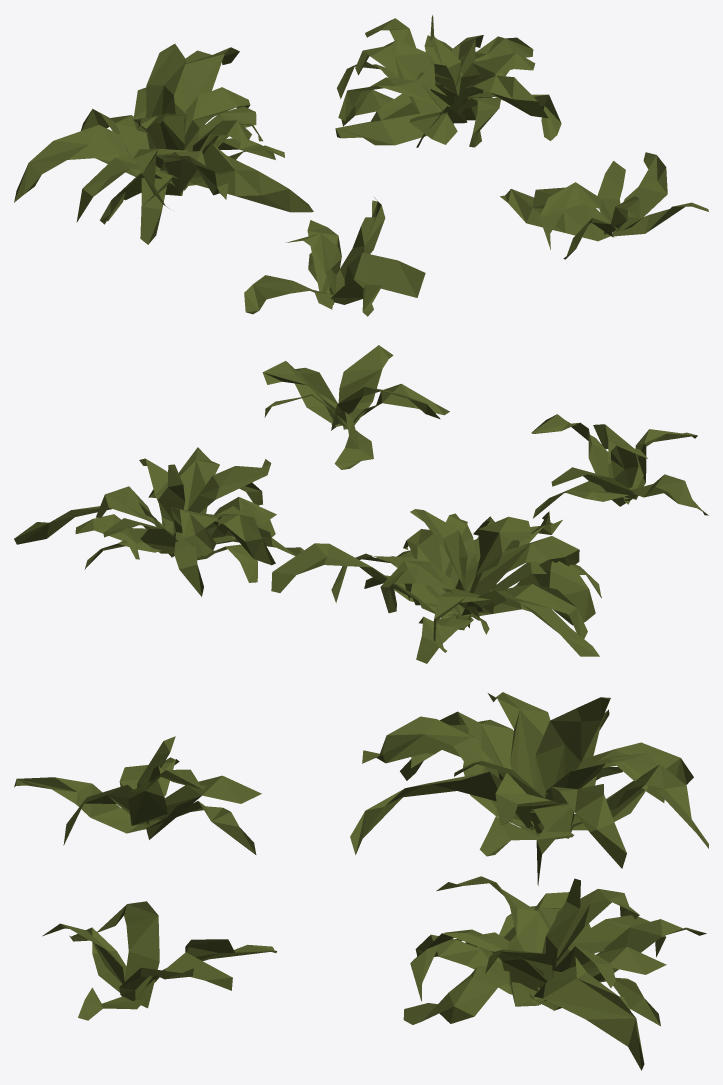
Rendered from fern_02.glb.
3 views of the same model, one above another, from view 1: azimuth 30°, elevation 25°; view 2: azimuth 150°, elevation 25°; view 3: azimuth 270°, elevation 25° (orthographic). The views are drawn at different scales.
Visible parts, largest first — view 1: fern_02_b; view 2: fern_02_b; view 3: fern_02_b.
Boxes of the visible parts, x1,y1,x2,y2 form: fern_02_b: [14, 15, 708, 316]; fern_02_b: [14, 345, 708, 663]; fern_02_b: [14, 692, 708, 1070].
Size of the model in its own units: 1.97 by 0.4275 by 1.72.
